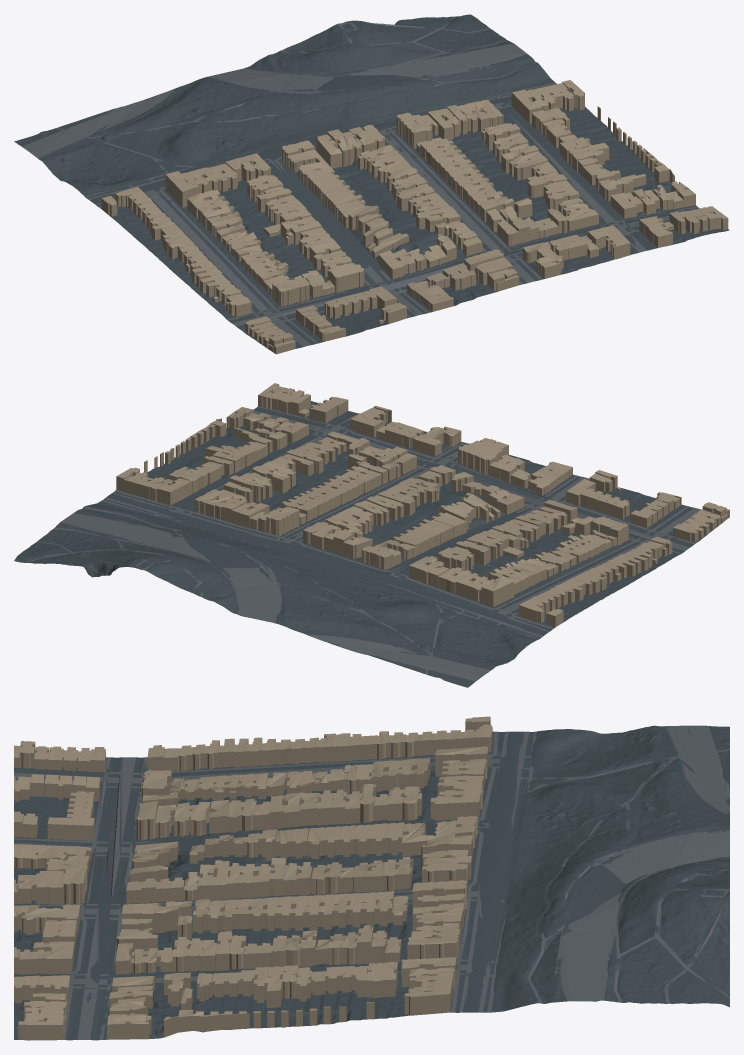
File: epsg26910-1421-10887.lod0.glb
3 renders of one model, top to bottom at view 1: azimuth 30°, elevation 25°; view 2: azimuth 150°, elevation 25°; view 3: azimuth 270°, elevation 25°, orthographic. The views are drawn at different scales.
Parts seen in each view (by area): view 1: epsg26910-1421-10887-lod0; view 2: epsg26910-1421-10887-lod0; view 3: epsg26910-1421-10887-lod0.
Part boxes in pixels (x1,y1,x2,y2): epsg26910-1421-10887-lod0: [14, 14, 729, 354]; epsg26910-1421-10887-lod0: [14, 383, 729, 687]; epsg26910-1421-10887-lod0: [14, 716, 729, 1040].
Size of the model in its own units: 384 by 49.9 by 384.
